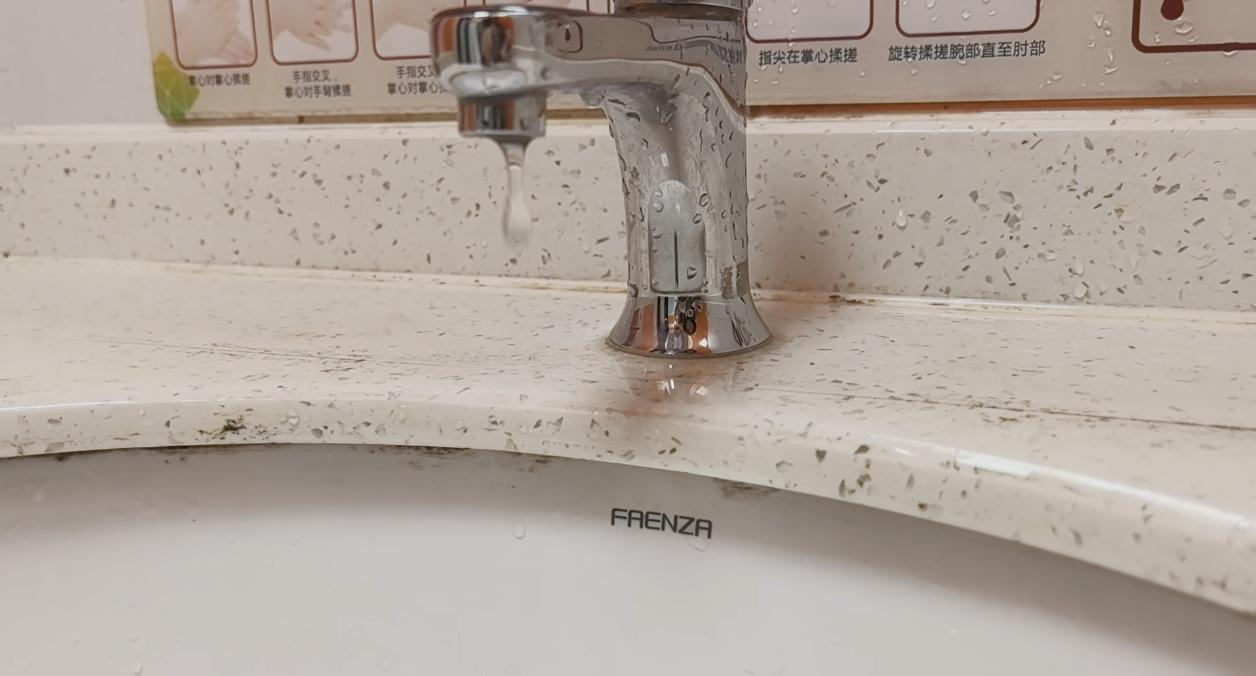water drop: (495, 130, 538, 251)
